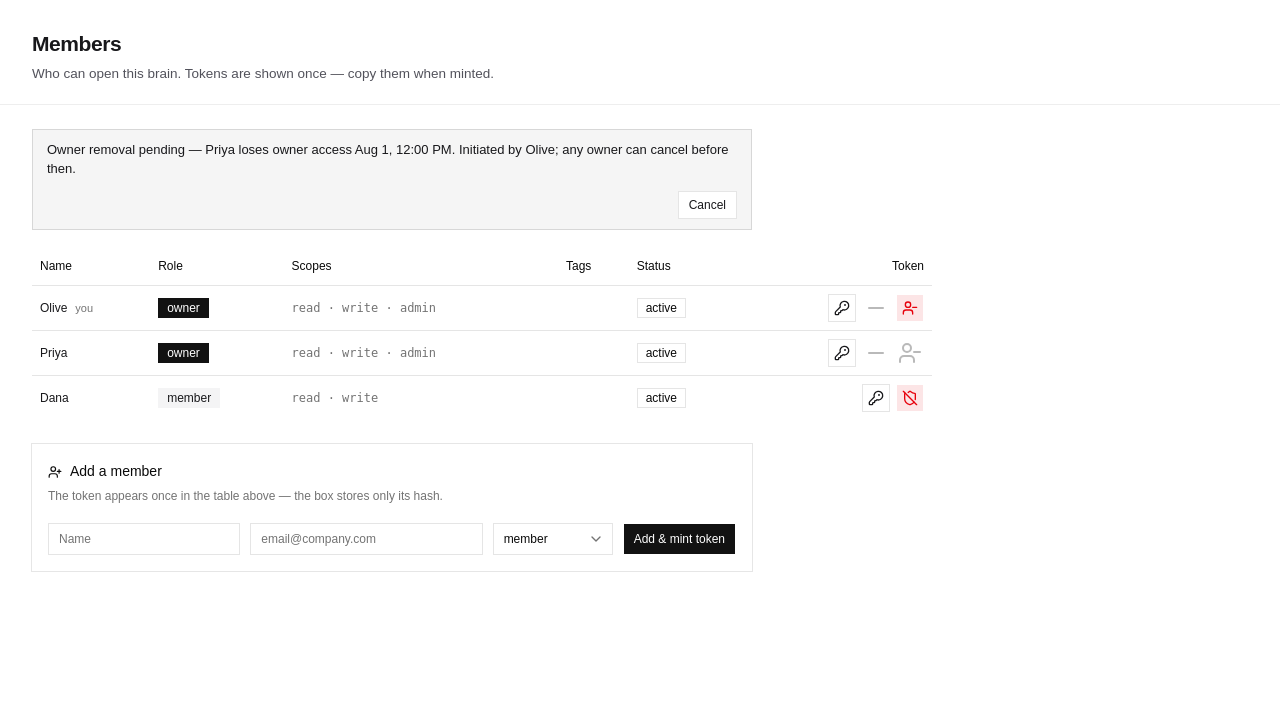
Scenario: <MembersView /> owner removal › surfaces a cancel refusal verbatim
expect the message named "Owner removal pending for Priya" is shown: met, box [32,129,752,230]
Click the button with aria-label "Cancel removal of Priya". click: (707, 205)
box: [678,191,737,219]
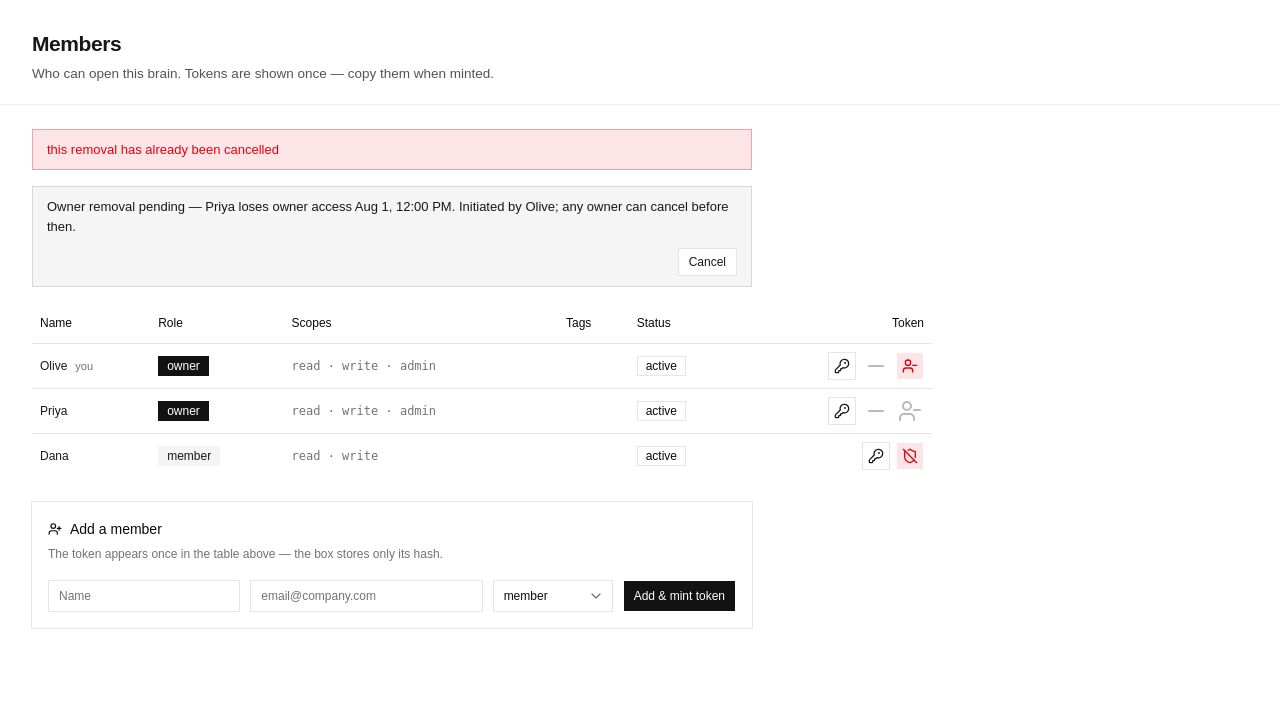
expect the text "this removal has already been cancelled" is shown: met, box [32,129,752,170]
